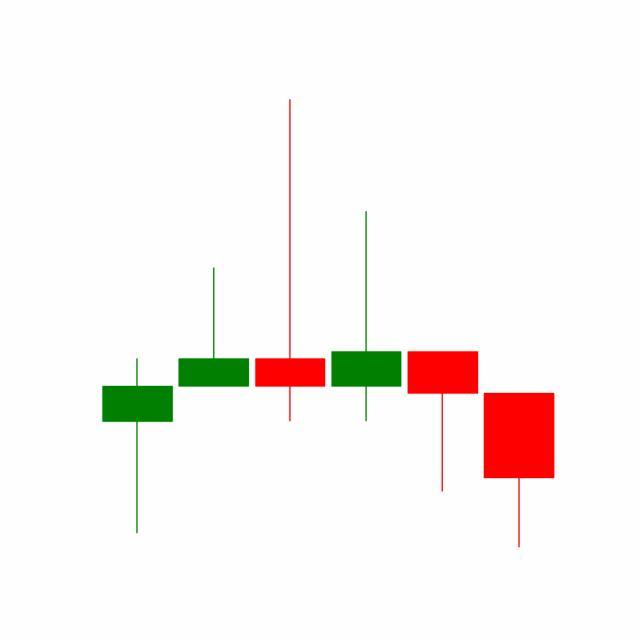Hammer: (404, 350, 482, 494)
